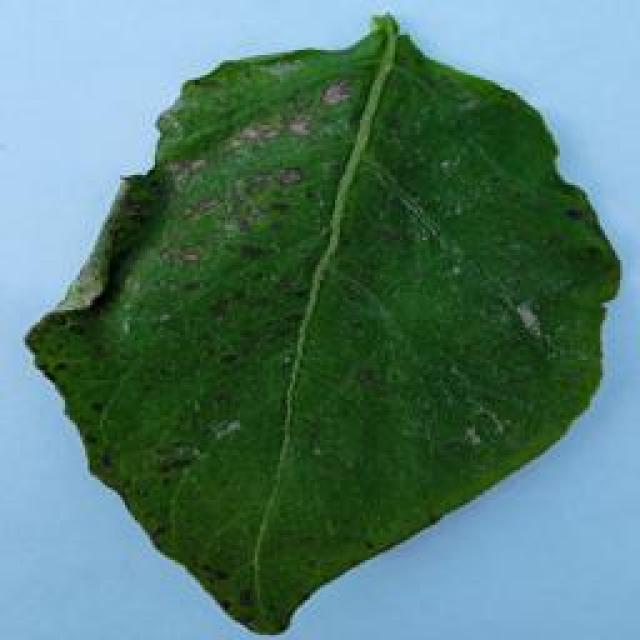Potato_Early_Blight: (6, 9, 634, 636)
